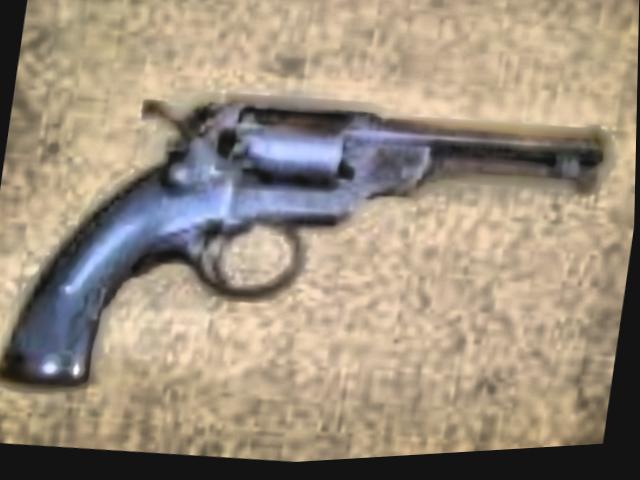pistol: (0, 42, 605, 451)
